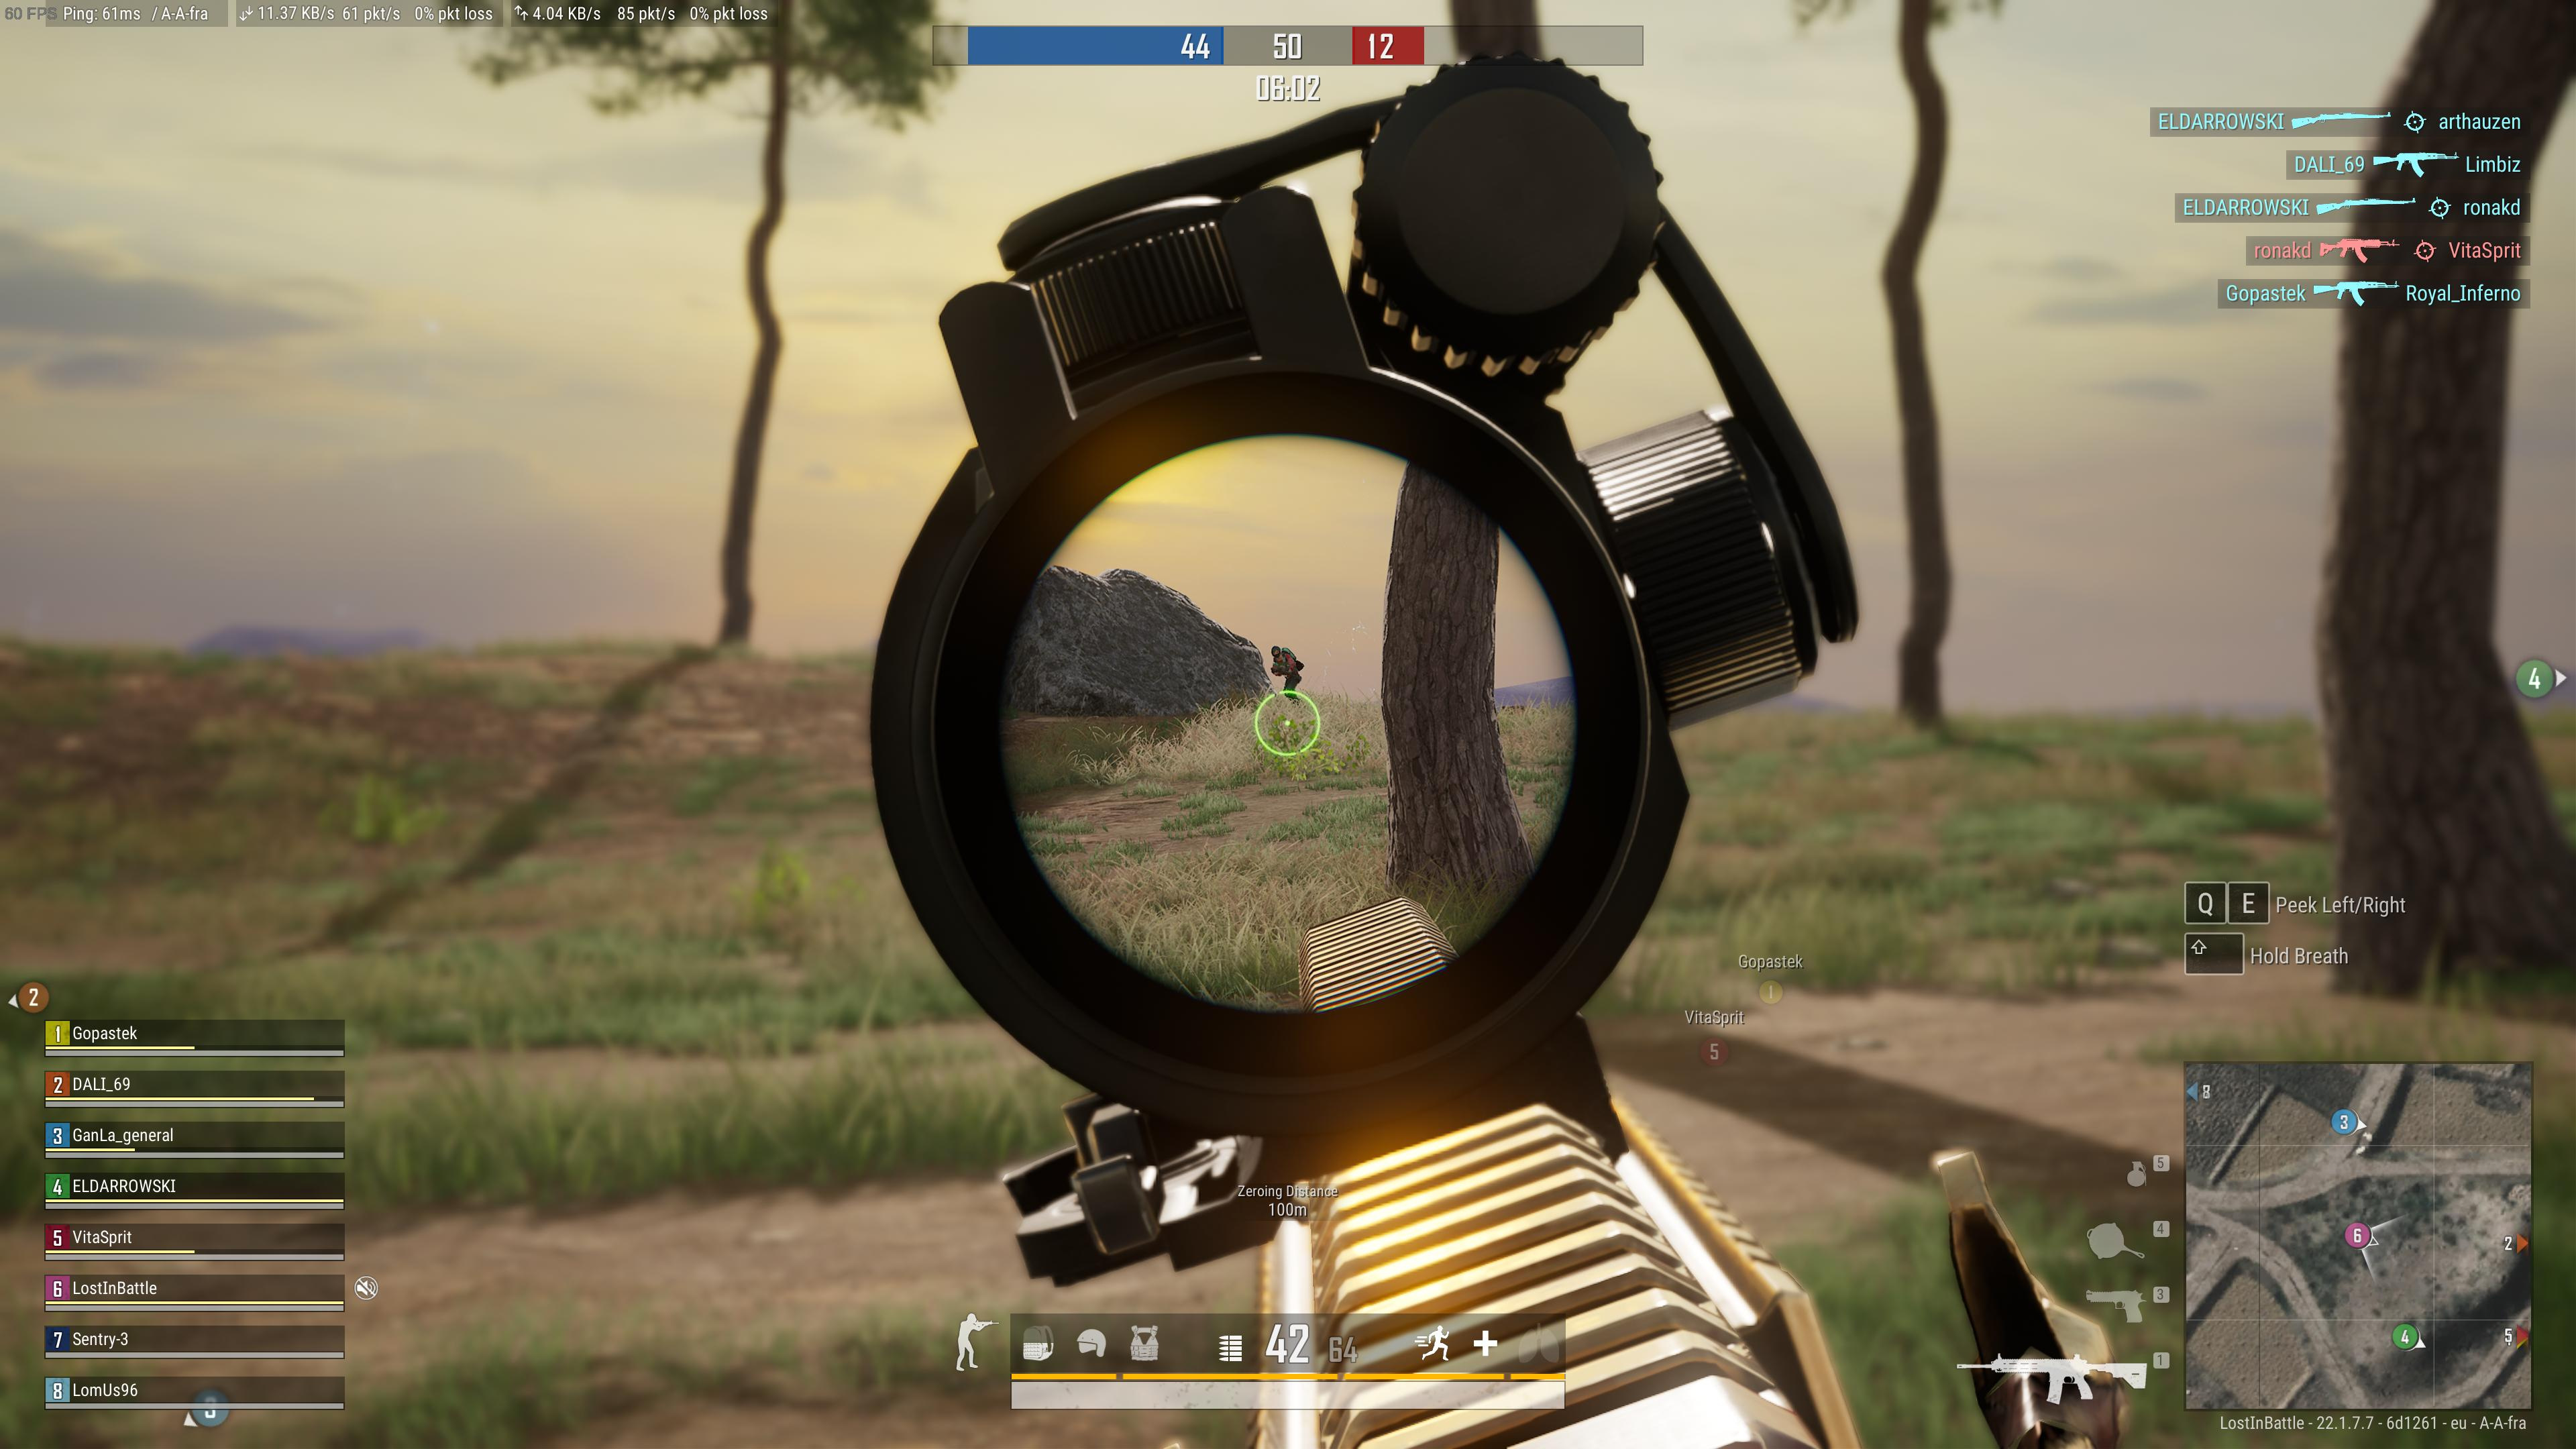enemy: (1270, 644, 1304, 706)
enemy_head: (1270, 644, 1281, 658)
